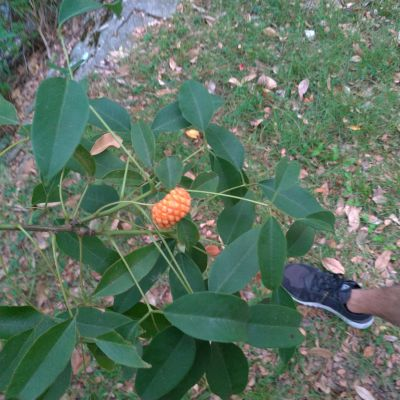eggs: (149, 186, 194, 227)
